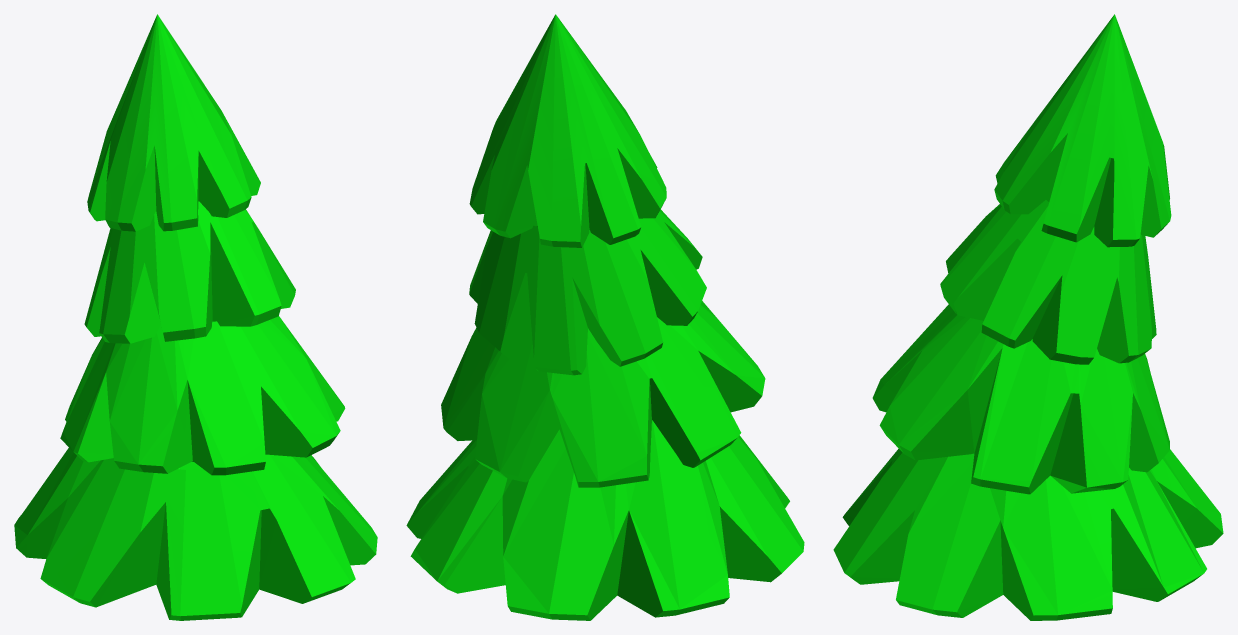
Rendered from Tree_04.fbx.
3 views of the same model, side by side, from view 1: azimuth 30°, elevation 25°; view 2: azimuth 150°, elevation 25°; view 3: azimuth 270°, elevation 25° (orthographic). The views are drawn at different scales.
Parts seen in each view (by area): view 1: PineTree_02; view 2: PineTree_02; view 3: PineTree_02.
Boxes of the visible parts, x1,y1,x2,y2 form: PineTree_02: (14,14,377,620); PineTree_02: (406,14,804,620); PineTree_02: (833,14,1223,620).
Size of the model in its own units: 285 by 433 by 277.
